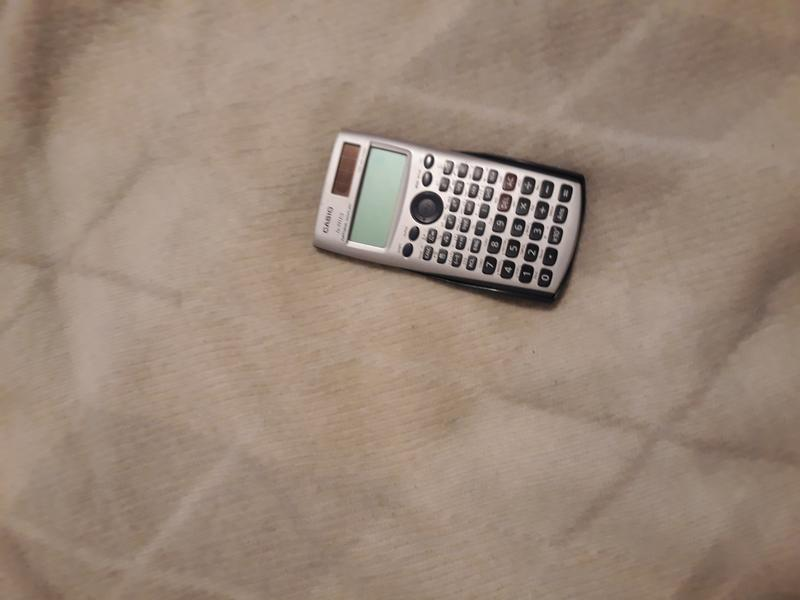CASIO_fx_991ES: (305, 113, 581, 317)
